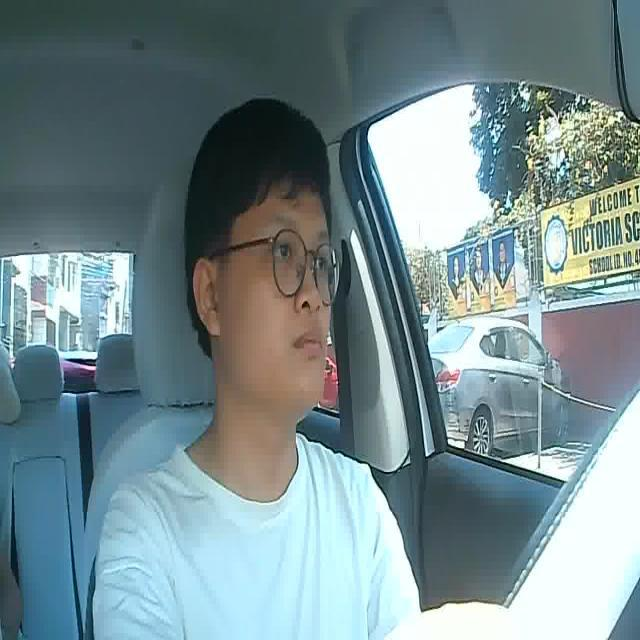Attentive: (184, 95, 340, 425)
Eye-Open: (270, 236, 296, 266), (310, 249, 329, 275)
Normal: (291, 322, 329, 362)
